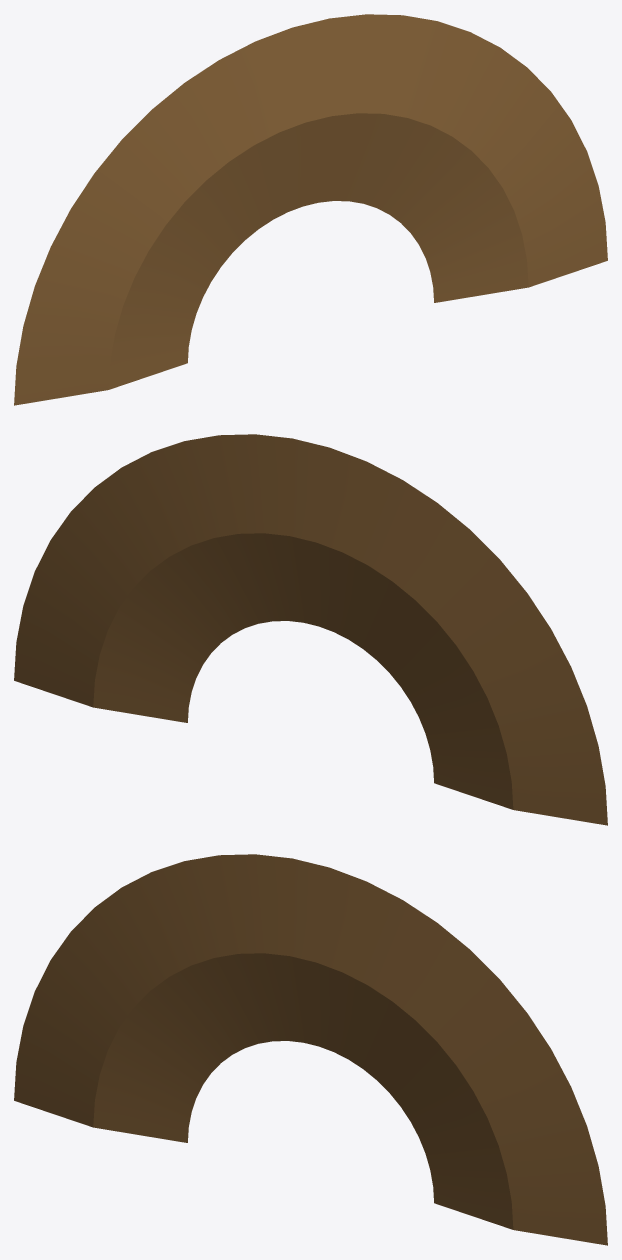
The model's file is CDRomHead.fbx.
3 views of the same model, one above another, from view 1: azimuth 30°, elevation 25°; view 2: azimuth 150°, elevation 25°; view 3: azimuth 330°, elevation 25° (orthographic).
Visible parts, largest first — view 1: CDRomHead; view 2: CDRomHead; view 3: CDRomHead.
Part boxes in pixels (left/top/right/bottom): CDRomHead: left=14, top=14, right=607, bottom=405; CDRomHead: left=14, top=434, right=607, bottom=825; CDRomHead: left=14, top=854, right=607, bottom=1245.
Size of the model in its own units: 4.1 by 2.05 by 0.1831.
